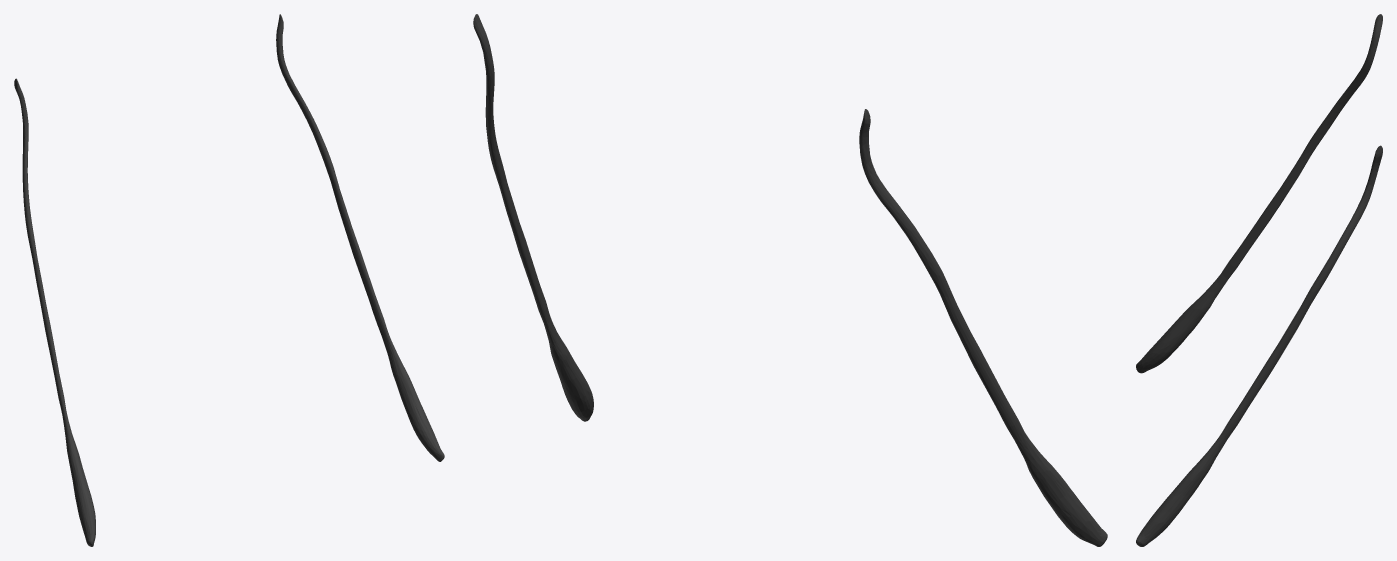
File: m_caudalis_tibialis.glb
3 renders of one model, left to right at view 1: azimuth 30°, elevation 25°; view 2: azimuth 150°, elevation 25°; view 3: azimuth 270°, elevation 25°, orthographic. The views are drawn at different scales.
Visible parts, largest first — view 1: m_caudalis_tibialis; view 2: m_caudalis_tibialis; view 3: m_caudalis_tibialis.
Boxes of the visible parts, box(x1,y1,x2,y2) form: m_caudalis_tibialis: box(14, 14, 444, 546); m_caudalis_tibialis: box(473, 14, 1107, 546); m_caudalis_tibialis: box(1136, 14, 1382, 546).
Size of the model in its own units: 0.0516 by 0.0516 by 0.0304.
1 material, 1 textured.
